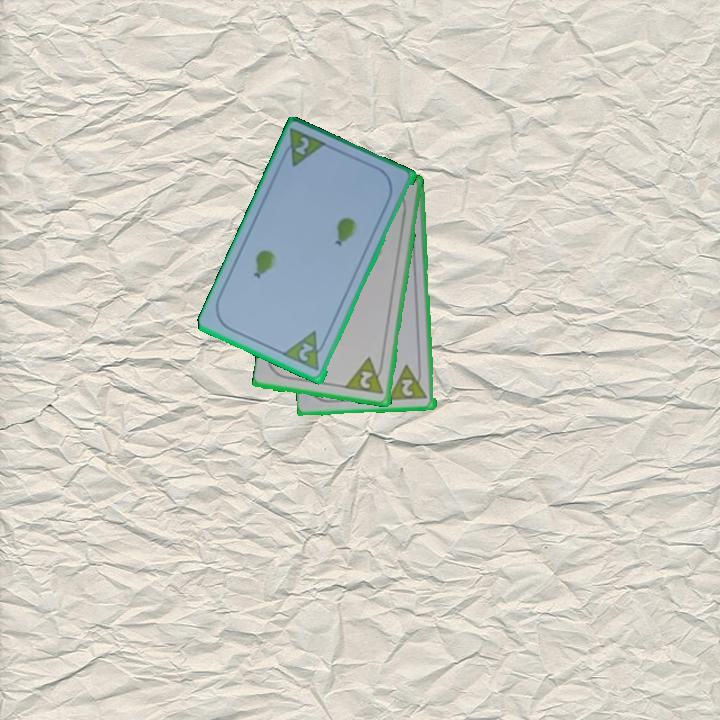2p: (343, 354, 387, 398), (291, 133, 313, 158), (295, 340, 316, 365), (398, 376, 417, 399)
